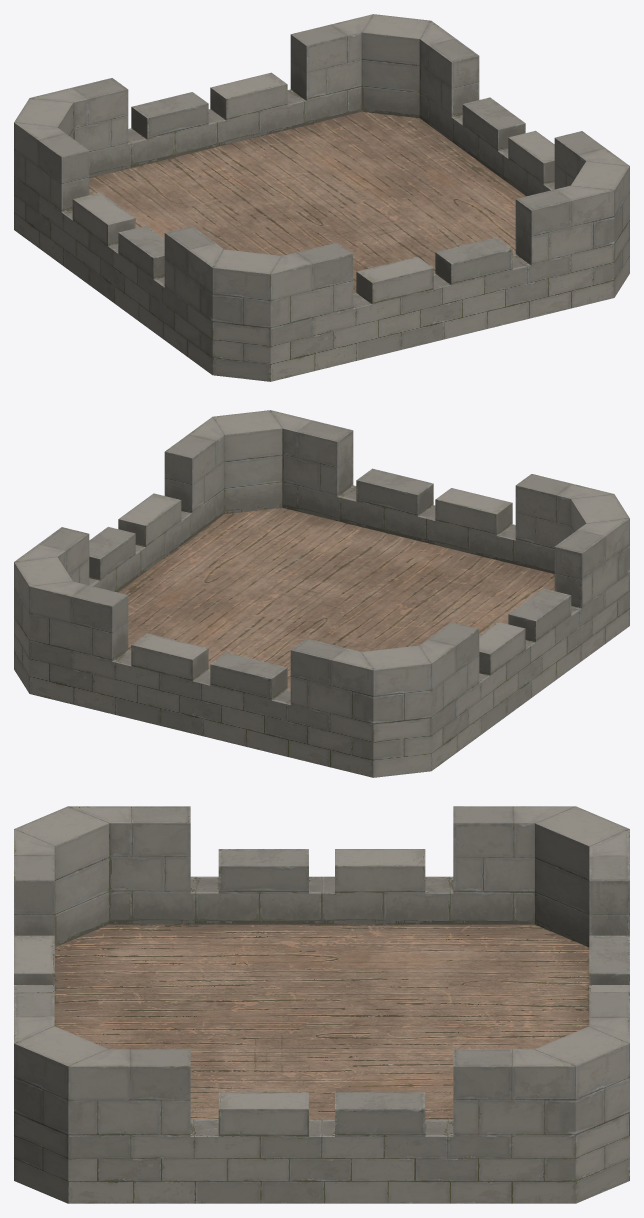
Rendered from FortBTop1.fbx.
3 renders of one model, top to bottom at view 1: azimuth 30°, elevation 25°; view 2: azimuth 150°, elevation 25°; view 3: azimuth 270°, elevation 25°, orthographic. The views are drawn at different scales.
Visible parts, largest first — view 1: FortBTop1; view 2: FortBTop1; view 3: FortBTop1.
Part boxes in pixels (x1,y1,x2,y2): FortBTop1: (14,14,629,381); FortBTop1: (14,410,629,777); FortBTop1: (14,806,629,1203).
Bounding box in the file's own units: 476 × 117 × 476.
1 material, 1 textured.
